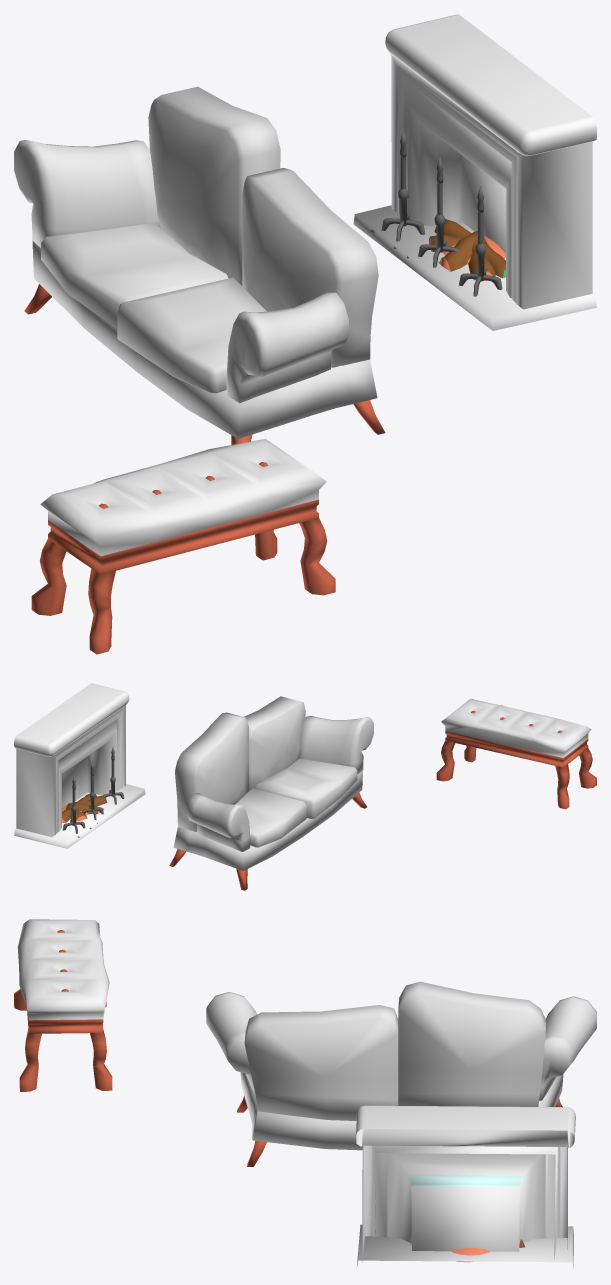
Rendered from LoungeArea_Furnitures.fbx.
3 renders of one model, top to bottom at view 1: azimuth 30°, elevation 25°; view 2: azimuth 150°, elevation 25°; view 3: azimuth 270°, elevation 25°, orthographic. The views are drawn at different scales.
Parts seen in each view (by area): view 1: Sofa_Classic, Fireplace_Traditional, Bench_Cushioned; view 2: Sofa_Classic, Fireplace_Traditional, Bench_Cushioned; view 3: Sofa_Classic, Fireplace_Traditional, Bench_Cushioned.
Part boxes in pixels (x1=…): Sofa_Classic: x1=14, y1=86, x2=385, y2=444; Fireplace_Traditional: x1=353, y1=14, x2=596, y2=330; Bench_Cushioned: x1=31, y1=438, x2=335, y2=654; Sofa_Classic: x1=169, y1=696, x2=373, y2=890; Fireplace_Traditional: x1=14, y1=683, x2=145, y2=848; Bench_Cushioned: x1=436, y1=698, x2=596, y2=809; Sofa_Classic: x1=206, y1=981, x2=596, y2=1166; Fireplace_Traditional: x1=356, y1=1105, x2=575, y2=1268; Bench_Cushioned: x1=14, y1=919, x2=112, y2=1091.
Bounding box in the file's own units: 3202 × 956 × 2945.
